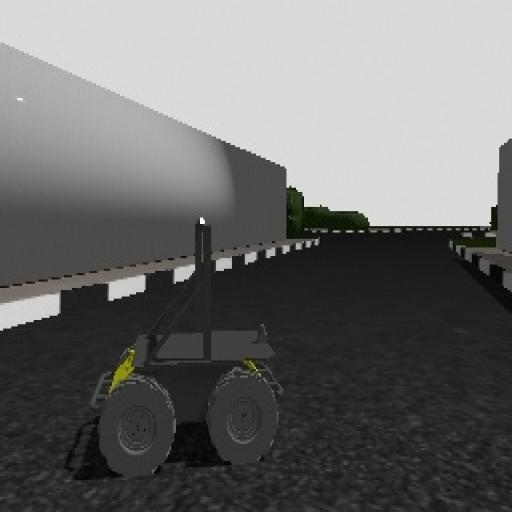huskya200: (83, 210, 299, 480)
